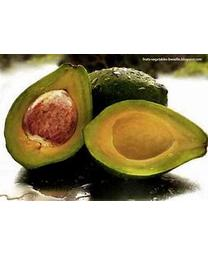avocado: (82, 97, 207, 179), (3, 64, 95, 172), (80, 66, 168, 125)
